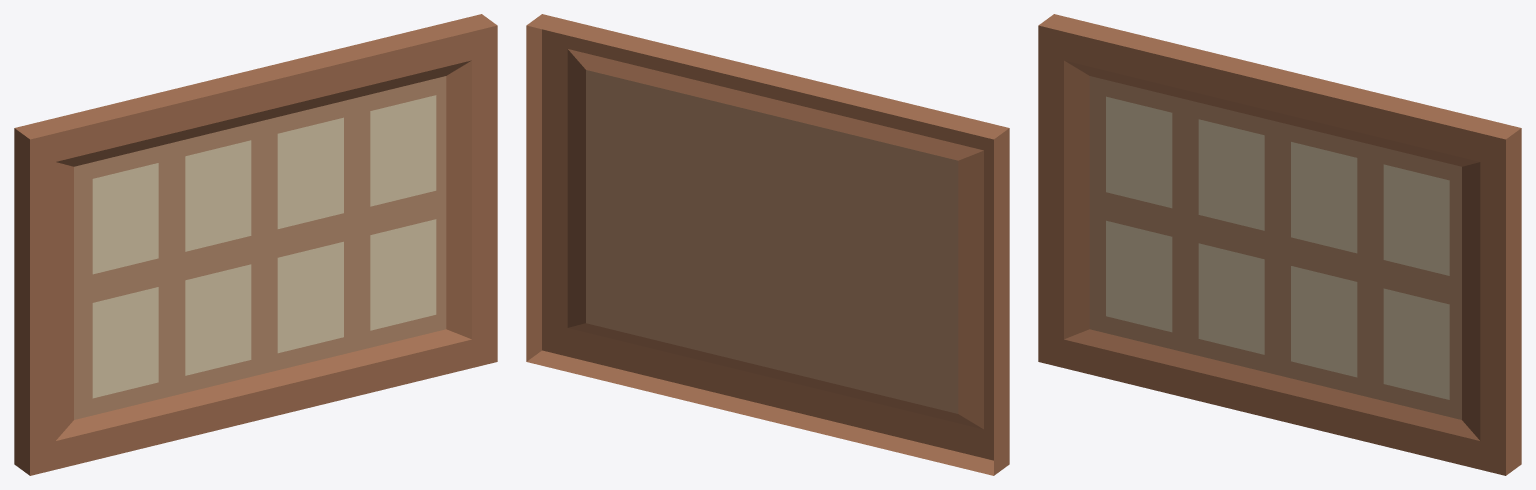
File: BulletinBoard1.fbx
3 views of the same model, side by side, from view 1: azimuth 30°, elevation 25°; view 2: azimuth 150°, elevation 25°; view 3: azimuth 330°, elevation 25° (orthographic).
Visible parts, largest first — view 1: BulletinBoard1; view 2: BulletinBoard1; view 3: BulletinBoard1.
Boxes of the visible parts, bbox=[...] form: BulletinBoard1: bbox=[14, 14, 497, 475]; BulletinBoard1: bbox=[526, 14, 1009, 475]; BulletinBoard1: bbox=[1038, 14, 1521, 475].
Bounding box in the file's own units: 117 × 80.65 × 6.83.
